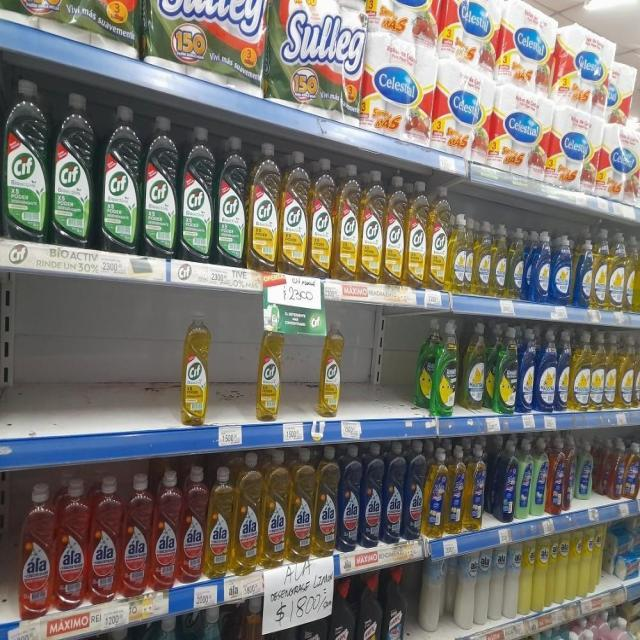ala_conc_amarillo: (233, 452, 261, 574), (262, 449, 288, 566), (206, 465, 232, 579), (288, 447, 314, 561), (314, 446, 338, 556)
ala_conc_azul: (338, 443, 361, 552), (383, 442, 404, 544), (362, 442, 382, 548), (404, 440, 424, 540), (328, 580, 354, 640), (356, 574, 380, 639)
ala_conc_rojo: (17, 482, 53, 618), (55, 478, 88, 610), (89, 475, 121, 604), (122, 472, 151, 598), (152, 468, 180, 592), (180, 465, 206, 583)
ala_crem_amarillo: (592, 524, 604, 594), (569, 528, 580, 602), (557, 531, 568, 604), (581, 525, 592, 597)
ala_crem_blanco: (476, 546, 490, 627), (491, 543, 505, 623)
cif_conc_bot_amarilla: (249, 141, 279, 272), (180, 308, 211, 426), (280, 149, 308, 274), (309, 156, 334, 278), (256, 313, 283, 422), (335, 163, 359, 281), (361, 168, 384, 283), (318, 318, 344, 418), (384, 173, 406, 285), (406, 178, 427, 290), (428, 184, 448, 291)
cif_conc_botella_verde: (2, 77, 49, 242), (51, 91, 96, 249), (100, 103, 141, 254), (143, 115, 178, 258), (180, 125, 214, 262), (216, 134, 247, 268)
magistral_con_amarillo: (462, 320, 486, 411), (178, 0, 206, 65), (448, 213, 469, 294), (571, 331, 590, 412), (608, 230, 625, 312), (474, 219, 491, 296), (492, 220, 508, 298), (593, 228, 608, 310), (508, 227, 524, 300), (618, 334, 633, 408), (591, 331, 604, 411), (15, 0, 66, 19), (625, 234, 637, 312), (605, 333, 617, 409), (464, 214, 474, 294), (634, 335, 640, 407)
magistral_con_azul: (536, 327, 556, 413), (518, 327, 535, 414), (552, 233, 572, 306), (574, 231, 592, 308), (533, 229, 551, 304), (187, 606, 225, 640), (556, 329, 570, 412), (142, 615, 183, 640), (524, 229, 534, 302)
zorro: (424, 445, 446, 538), (466, 442, 486, 530), (446, 444, 464, 535), (499, 437, 516, 522), (516, 437, 532, 520), (548, 437, 564, 514), (532, 436, 547, 516), (577, 439, 593, 502), (625, 442, 640, 498), (612, 438, 624, 499)
